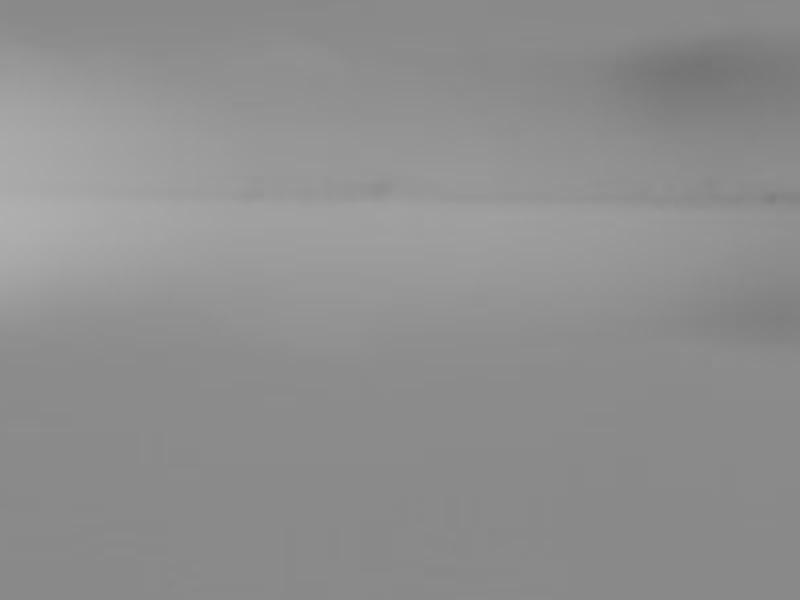defect: (366, 179, 388, 201), (765, 190, 778, 203)
